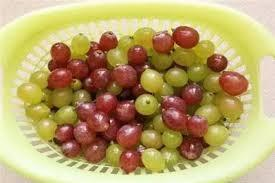Grape Rotten: (17, 25, 249, 173)
